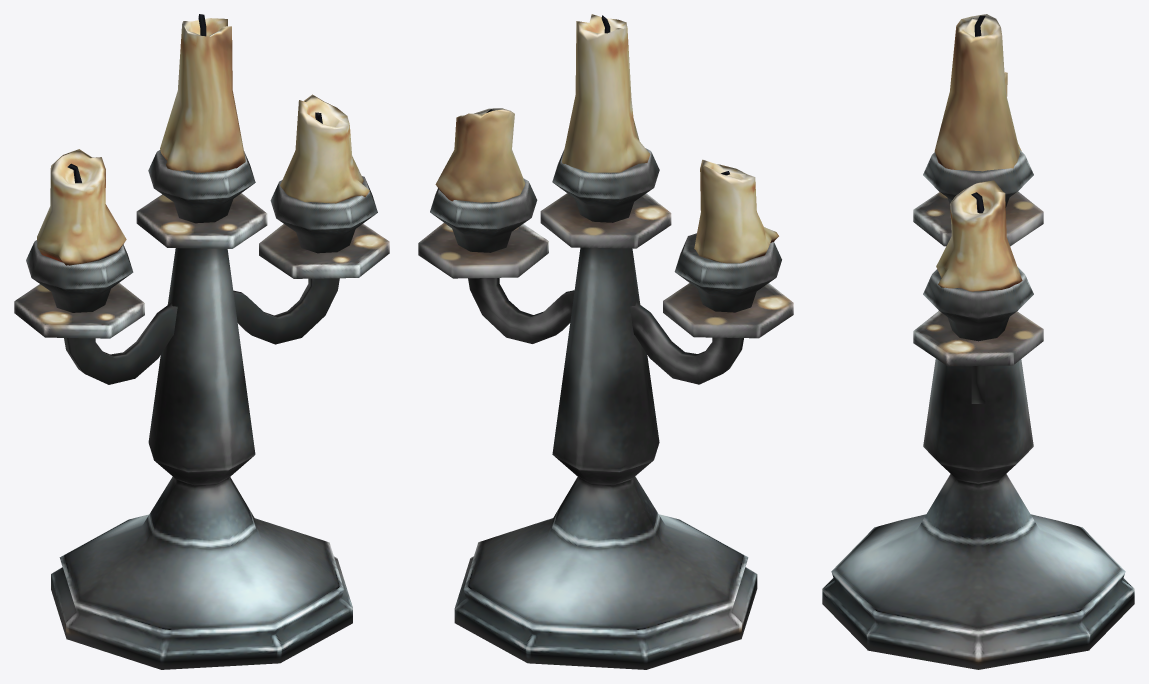
The model's file is SM_candlestick_00.gltf.
3 views of the same model, side by side, from view 1: azimuth 30°, elevation 25°; view 2: azimuth 150°, elevation 25°; view 3: azimuth 270°, elevation 25° (orthographic).
Parts seen in each view (by area): view 1: SM_candlestick_00; view 2: SM_candlestick_00; view 3: SM_candlestick_00.
Part boxes in pixels (x1,y1,x2,y2): SM_candlestick_00: (14, 14, 389, 669); SM_candlestick_00: (418, 14, 793, 669); SM_candlestick_00: (822, 14, 1134, 669).
Bounding box in the file's own units: 0.4133 × 0.6767 × 0.3252.
1 material, 1 textured.
